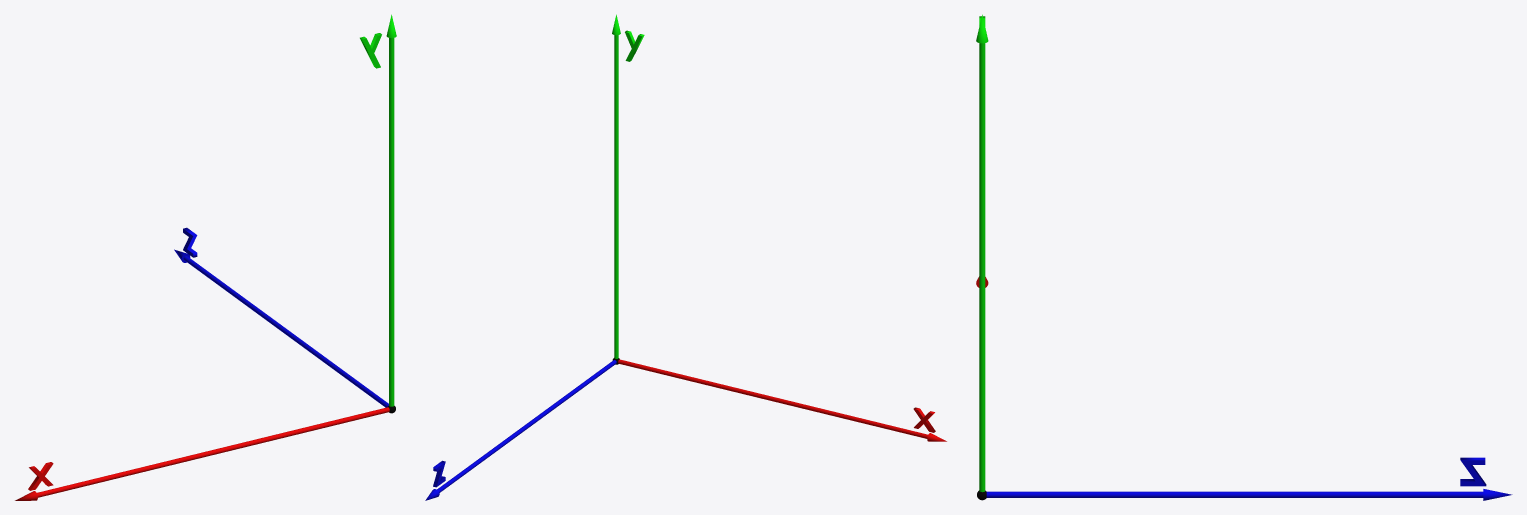
File: Axis.fbx
3 renders of one model, left to right at view 1: azimuth 30°, elevation 25°; view 2: azimuth 150°, elevation 25°; view 3: azimuth 270°, elevation 25°, orthographic. The views are drawn at different scales.
Parts seen in each view (by area): view 1: Cylinder, Cylinder.003, Cylinder.004; view 2: Cylinder.003, Cylinder, Cylinder.004; view 3: Cylinder.004, Cylinder.
Part boxes in pixels (x1=…): Cylinder: x1=389, y1=38, x2=394, y2=406; Cylinder.003: x1=37, y1=407, x2=389, y2=497; Cylinder.004: x1=183, y1=256, x2=388, y2=407; Cylinder.003: x1=618, y1=359, x2=927, y2=438; Cylinder: x1=614, y1=35, x2=618, y2=358; Cylinder.004: x1=437, y1=360, x2=616, y2=492; Cylinder.004: x1=986, y1=491, x2=1483, y2=497; Cylinder: x1=979, y1=43, x2=985, y2=492.
Bounding box in the file's own units: 2.14 × 2.14 × 2.14.
